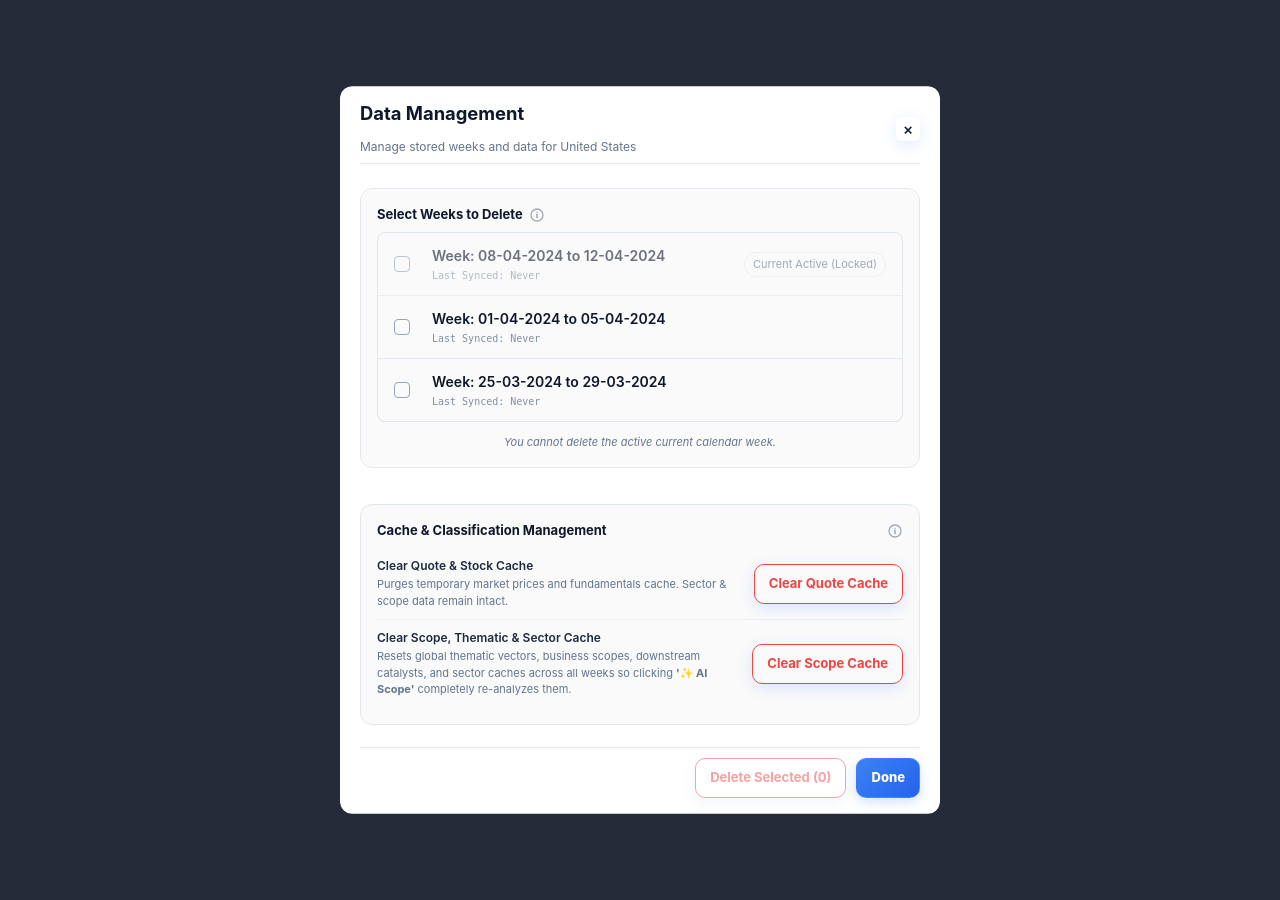
DataManagementModal Components › clears business scope, thematic, and sector cache when Clear Scope Cache button is clicked
The image size is (1280, 900).
Click the button "Clear Scope Cache". click: (828, 664)
box: [752, 644, 903, 684]
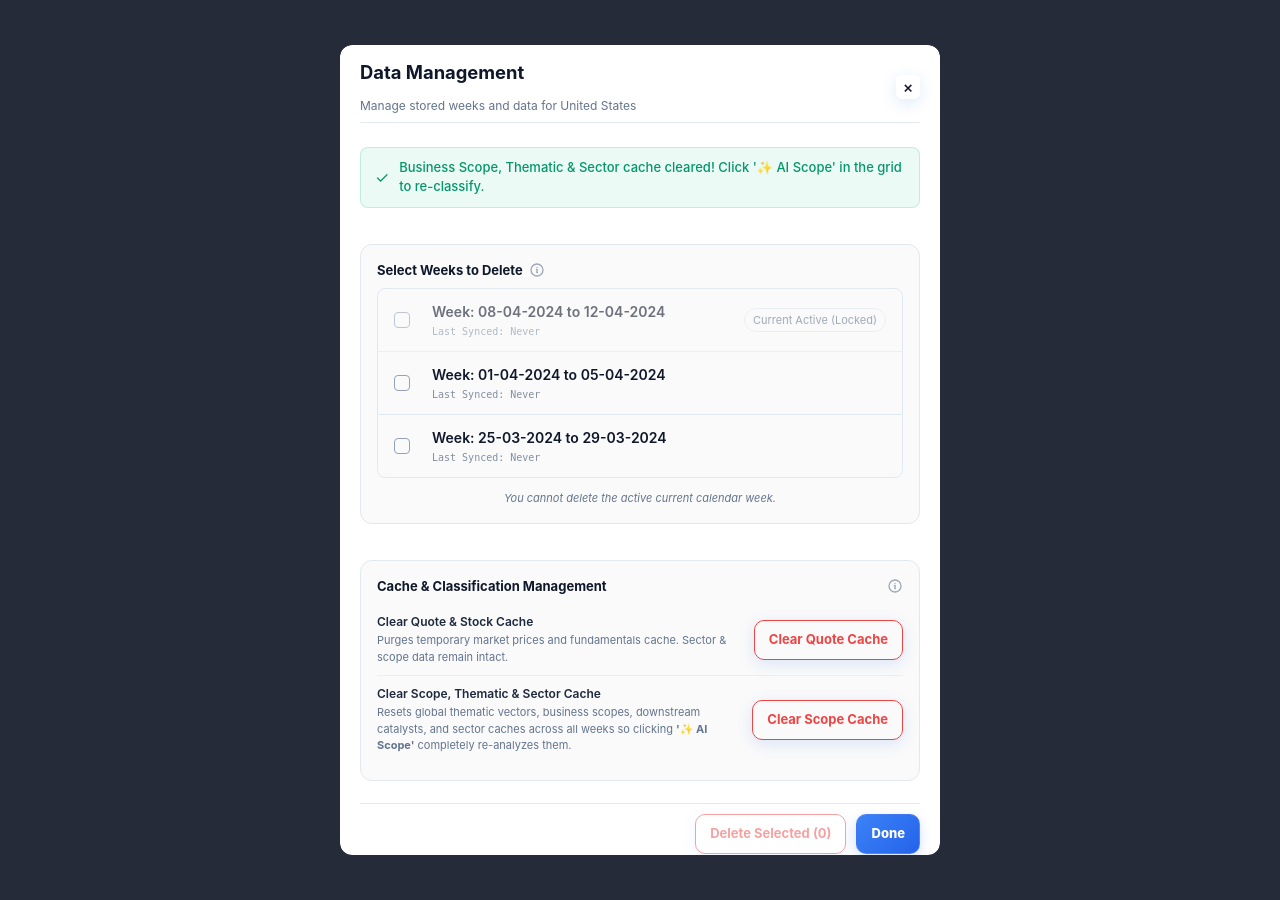
Now the text "Business Scope, Thematic & Sector cache cleared" is shown, box [399, 159, 902, 194]
